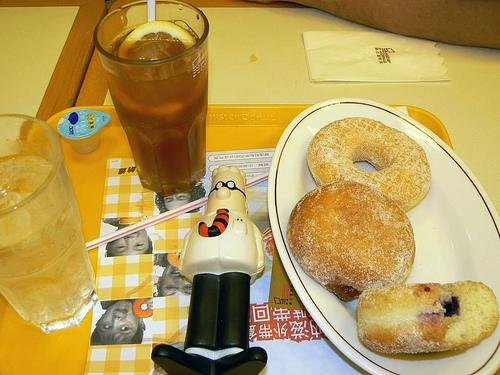lemon: (118, 20, 197, 60)
